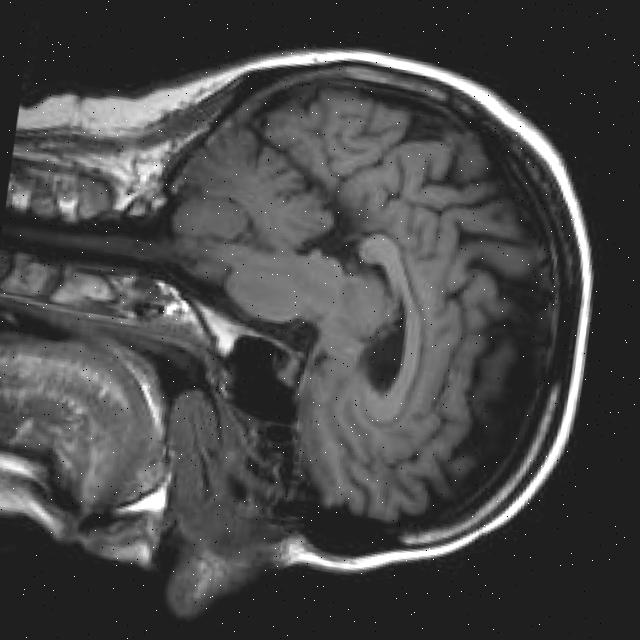NoTumor: (117, 16, 625, 604)
